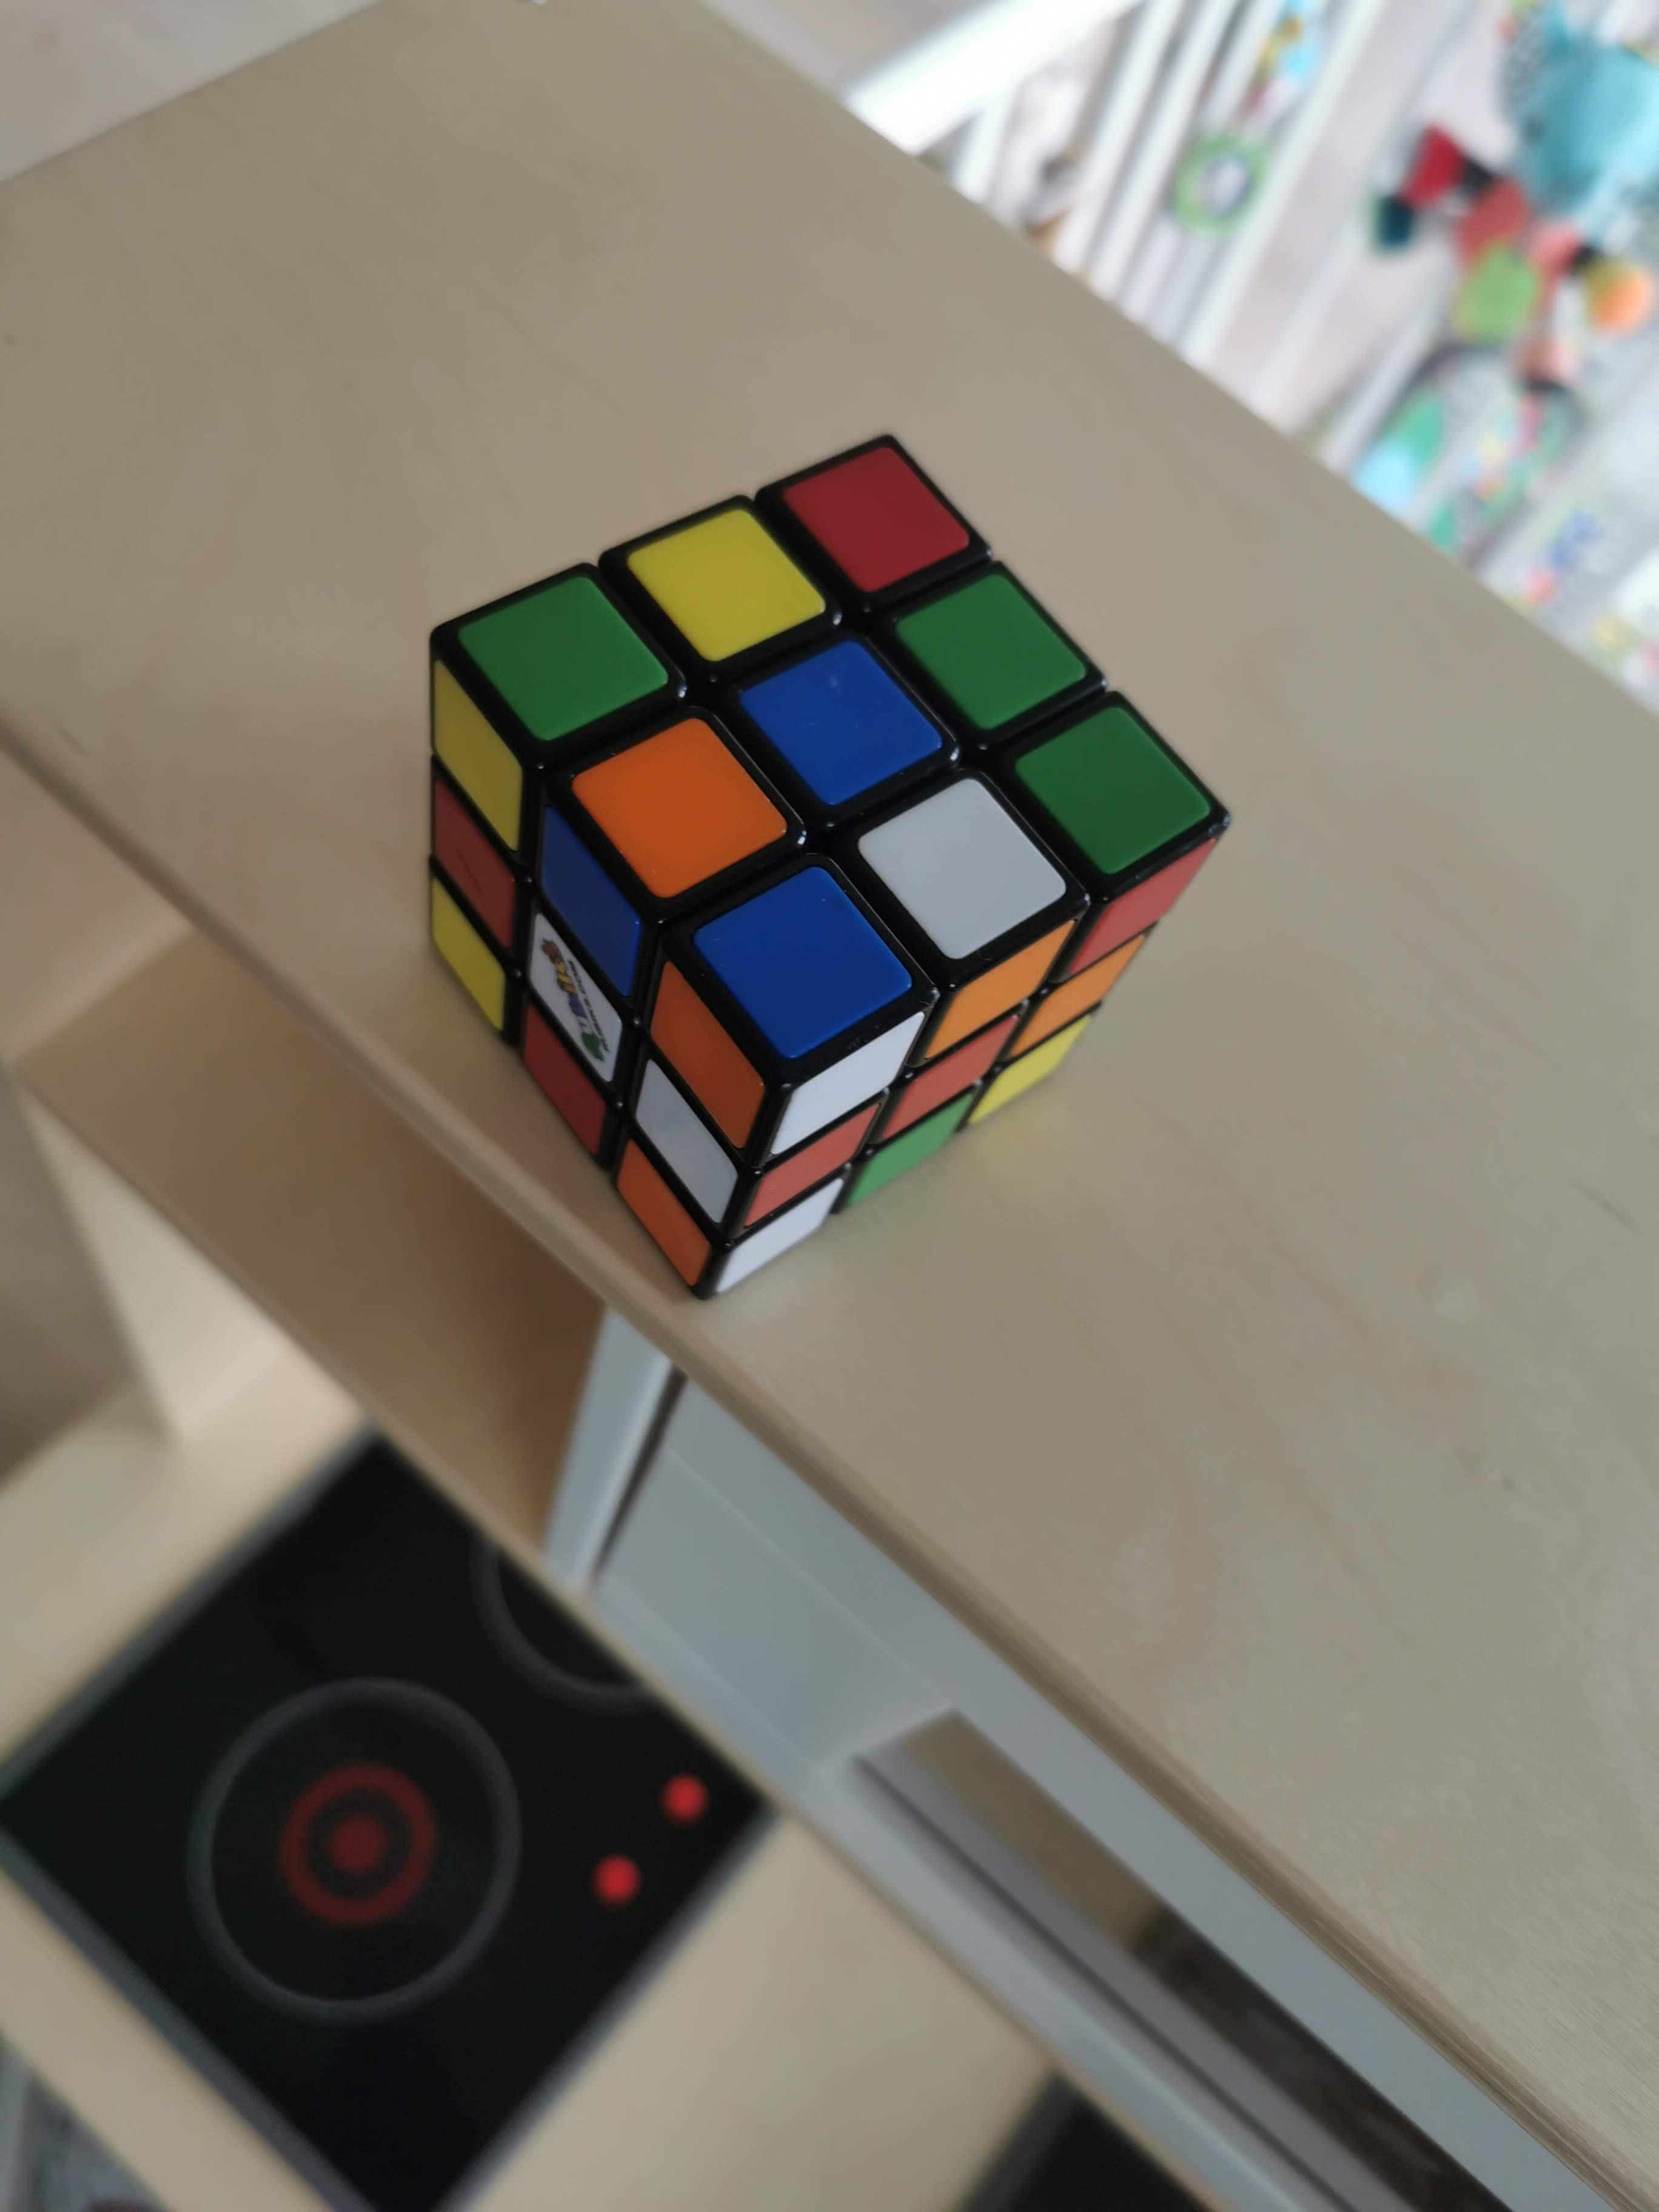cube: (420, 420, 1236, 1301)
